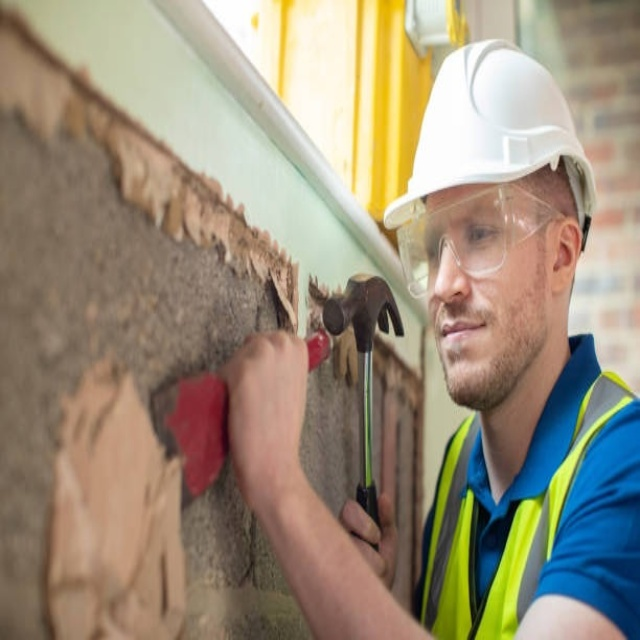Gafas: (395, 179, 573, 303)
Sin_guantes: (214, 320, 313, 486), (339, 475, 403, 598)
Sin_mascara: (433, 303, 507, 383)
